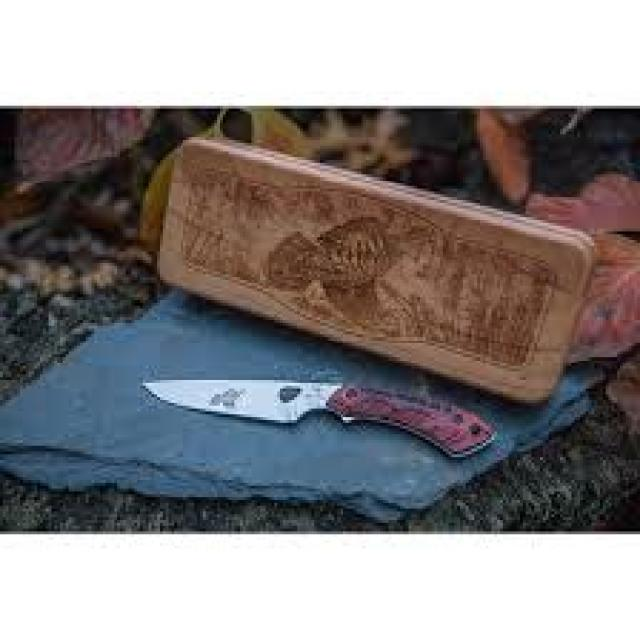knives: (115, 338, 508, 500)
